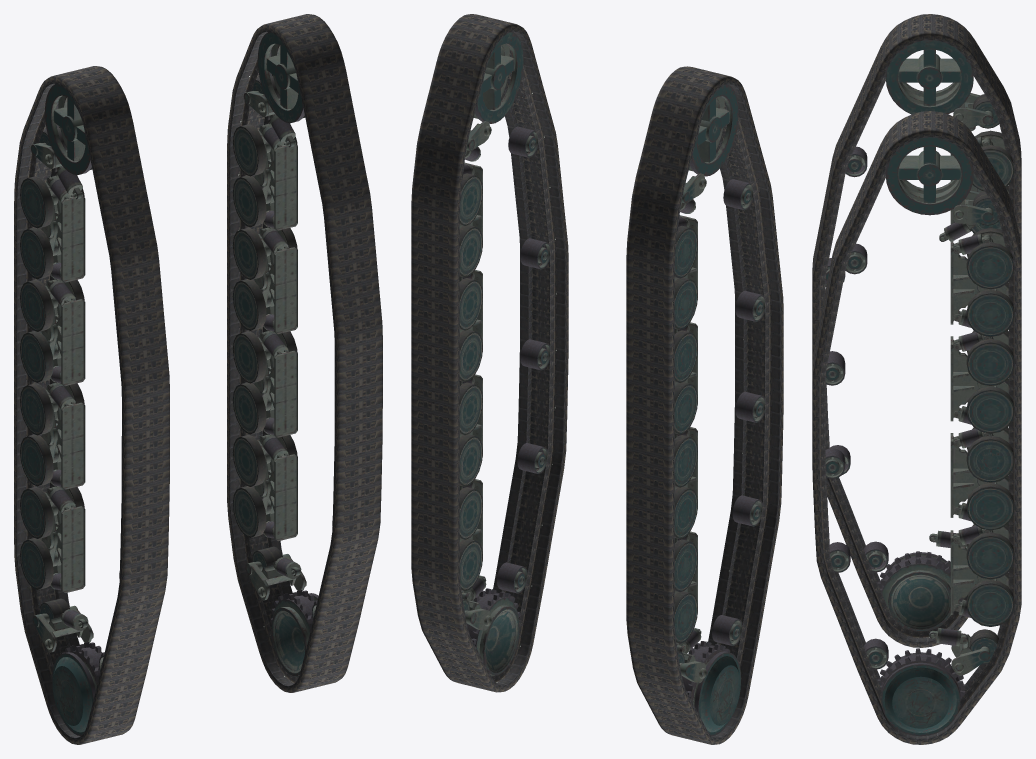
The model's file is Chassis.glb.
The picture shows the model from 3 angles, left to right: view 1: azimuth 30°, elevation 25°; view 2: azimuth 150°, elevation 25°; view 3: azimuth 270°, elevation 25°; orthographic projection. The views are drawn at different scales.
Parts seen in each view (by area): view 1: set_1_group_0, set_0_group_0, set_3_group_0, set_5_group_0, set_2_group_0, set_4_group_0; view 2: set_1_group_0, set_0_group_0, set_3_group_0, set_5_group_0, set_4_group_0, set_2_group_0; view 3: set_5_group_0, set_1_group_0, set_0_group_0, set_3_group_0, set_4_group_0, set_2_group_0.
Part boxes in pixels (left/top/right/bottom): set_1_group_0: left=227, top=14, right=382, bottom=692; set_0_group_0: left=14, top=66, right=169, bottom=744; set_3_group_0: left=20, top=84, right=119, bottom=735; set_5_group_0: left=232, top=32, right=332, bottom=676; set_2_group_0: left=31, top=143, right=82, bottom=590; set_4_group_0: left=244, top=91, right=295, bottom=538; set_1_group_0: left=411, top=14, right=568, bottom=692; set_0_group_0: left=626, top=66, right=783, bottom=744; set_3_group_0: left=674, top=84, right=764, bottom=735; set_5_group_0: left=459, top=32, right=549, bottom=676; set_4_group_0: left=459, top=121, right=491, bottom=490; set_2_group_0: left=674, top=173, right=706, bottom=543; set_5_group_0: left=825, top=137, right=1014, bottom=736; set_1_group_0: left=812, top=111, right=1021, bottom=744; set_0_group_0: left=812, top=14, right=1021, bottom=647; set_3_group_0: left=825, top=40, right=1014, bottom=631; set_4_group_0: left=944, top=190, right=996, bottom=617; set_2_group_0: left=953, top=93, right=993, bottom=503.
Size of the model in its own units: 2.31 by 5.63 by 1.74.
Materials: 6 (6 with a texture image).
